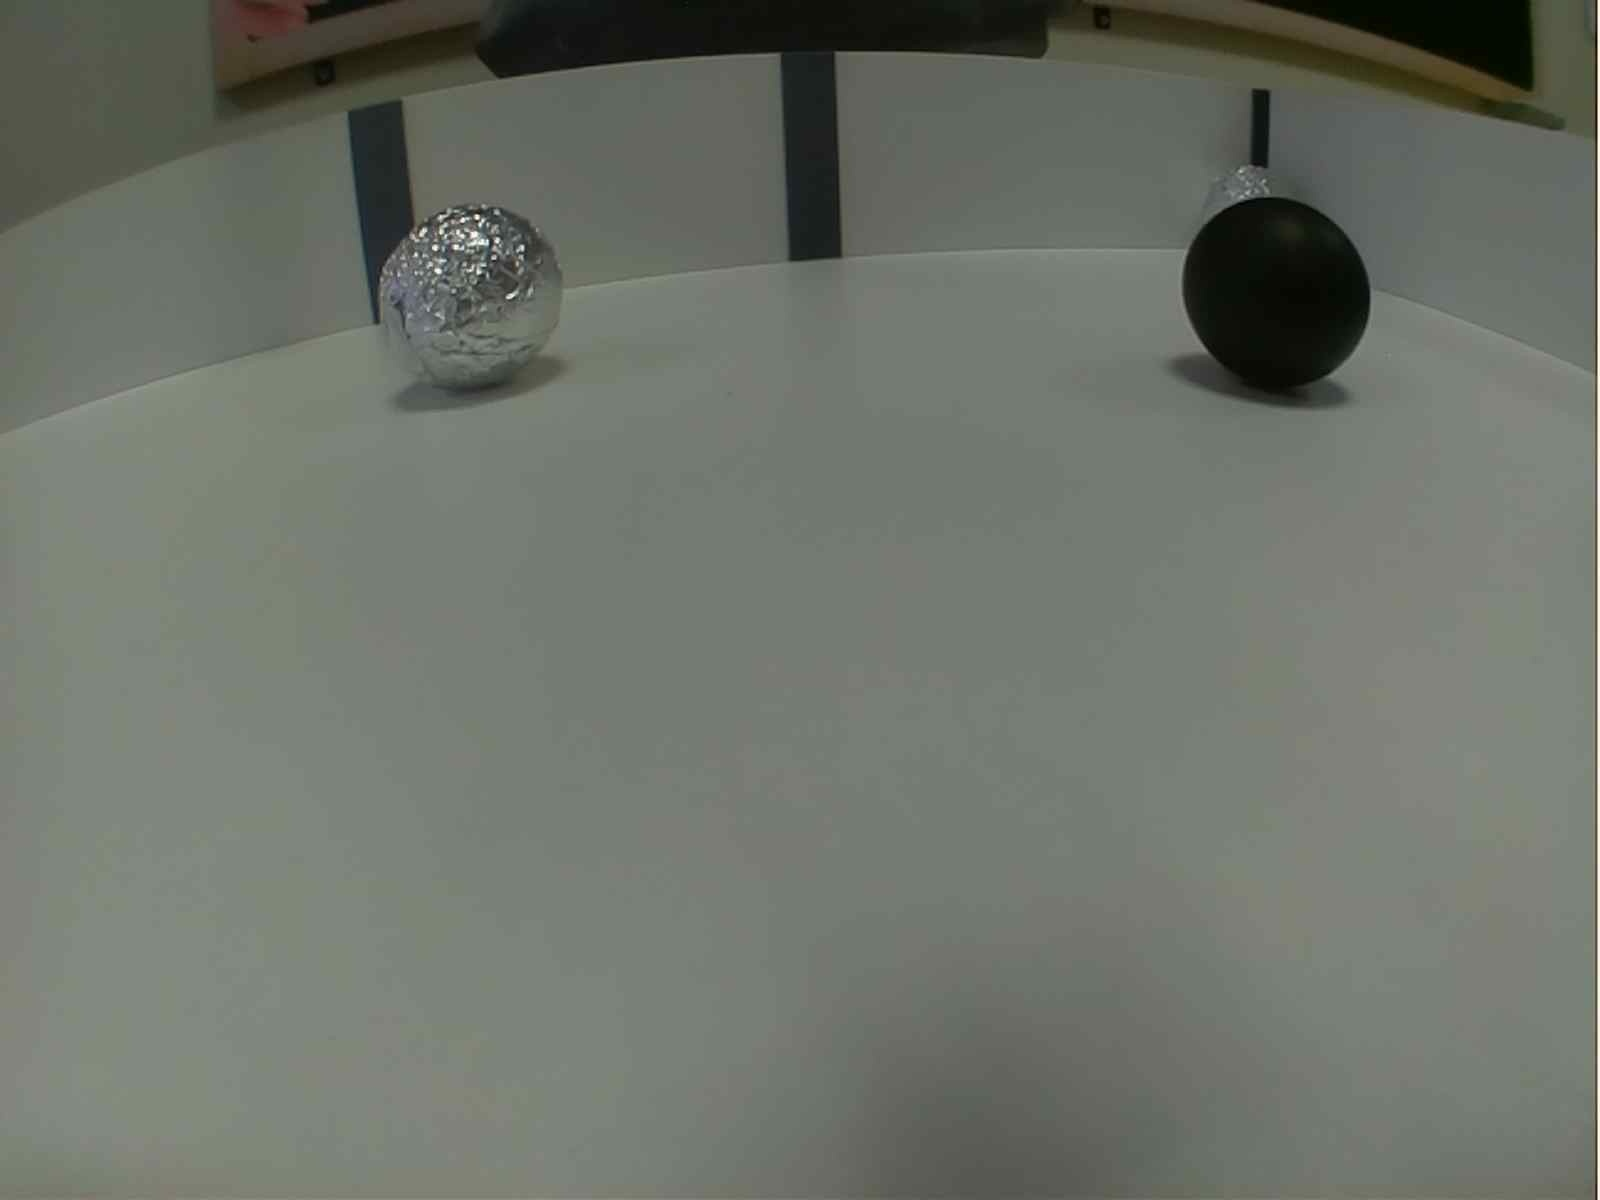bianca: (368, 200, 568, 392), (1199, 155, 1284, 245)
nera: (1175, 192, 1378, 407)
